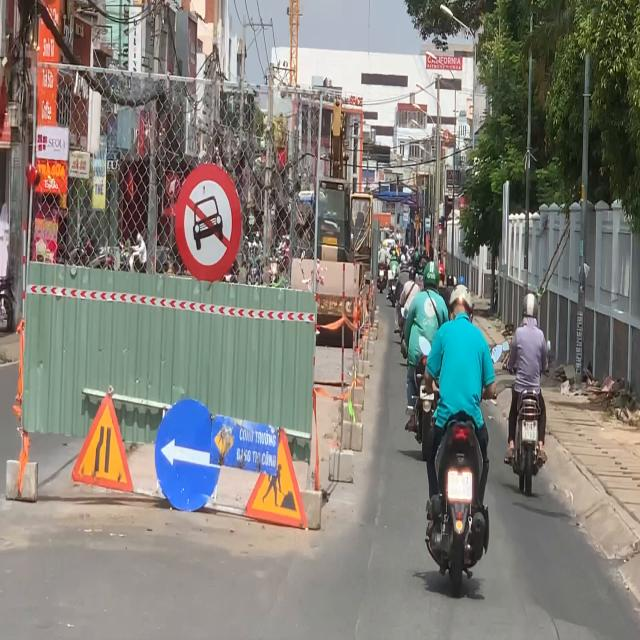Cam con lai: (174, 162, 243, 284)
Nguy hiem: (244, 428, 310, 534), (70, 389, 134, 494)
Re trai: (154, 397, 222, 514)
